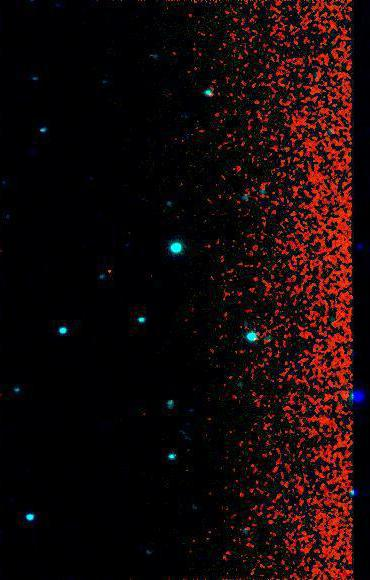star: (93, 255, 123, 285)
